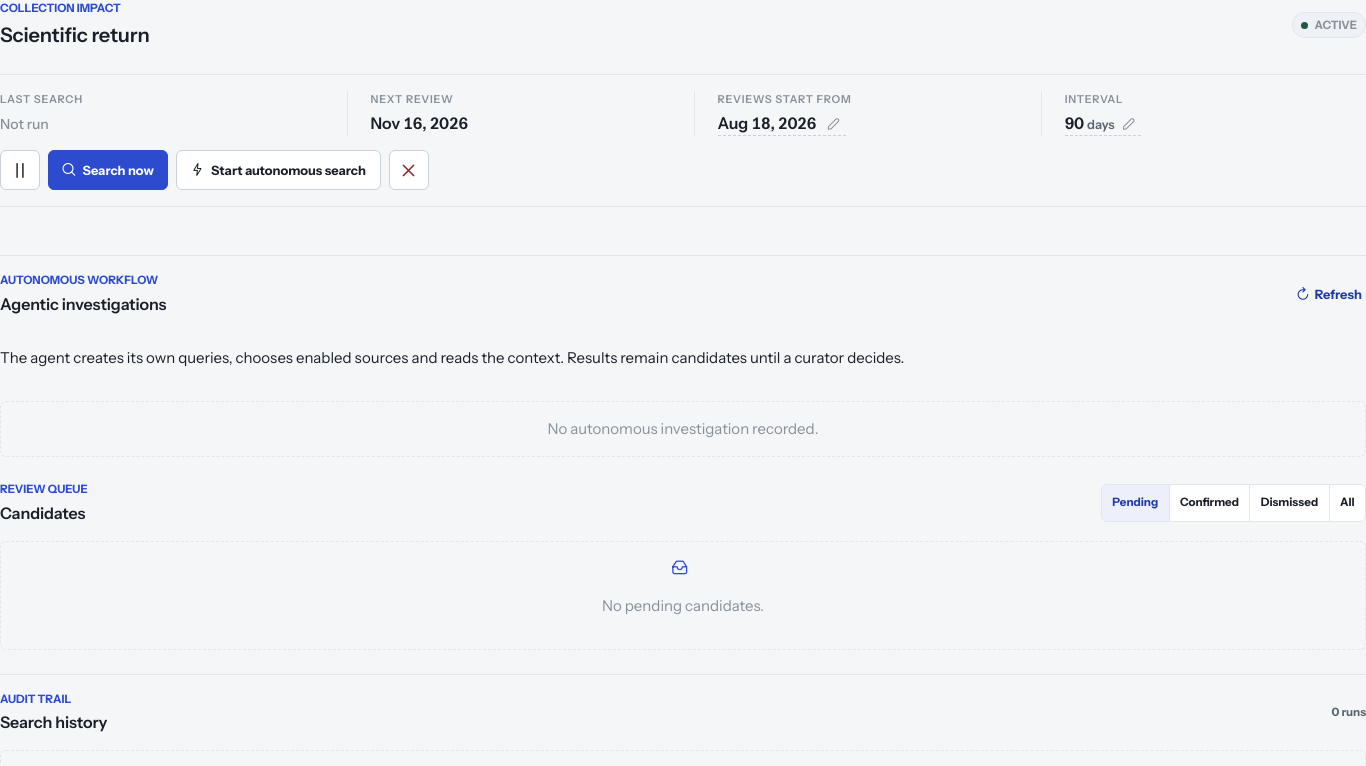
ScientificReturnPanelComponent › closes the watch only after the confirmation is accepted
What coordinates should you click on to do the following:
click the button named "Close monitoring"
I would click on:
 (408, 170)
Its box is [388,150,428,190].
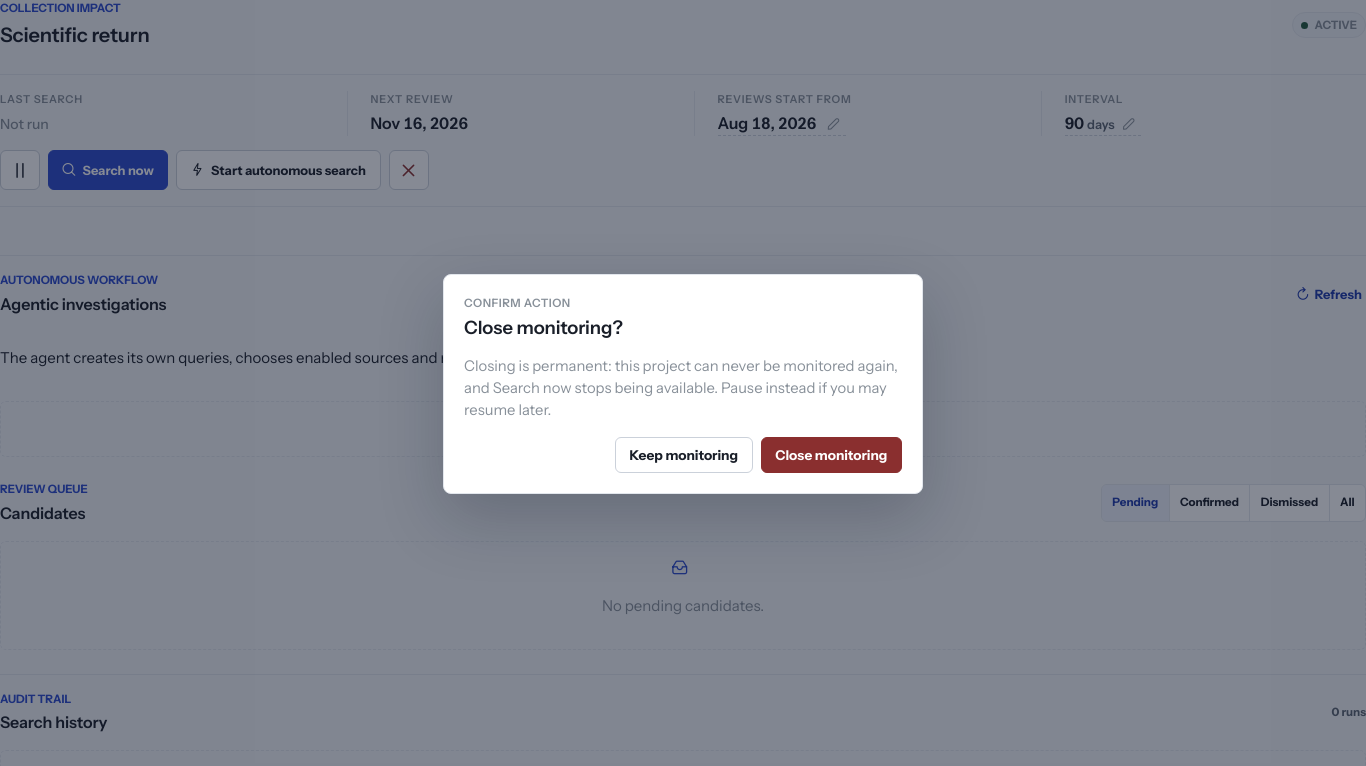
What coordinates should you click on to do the following:
click the button "Close monitoring"
I would click on:
 (831, 455)
Its box is [761,437,902,473].
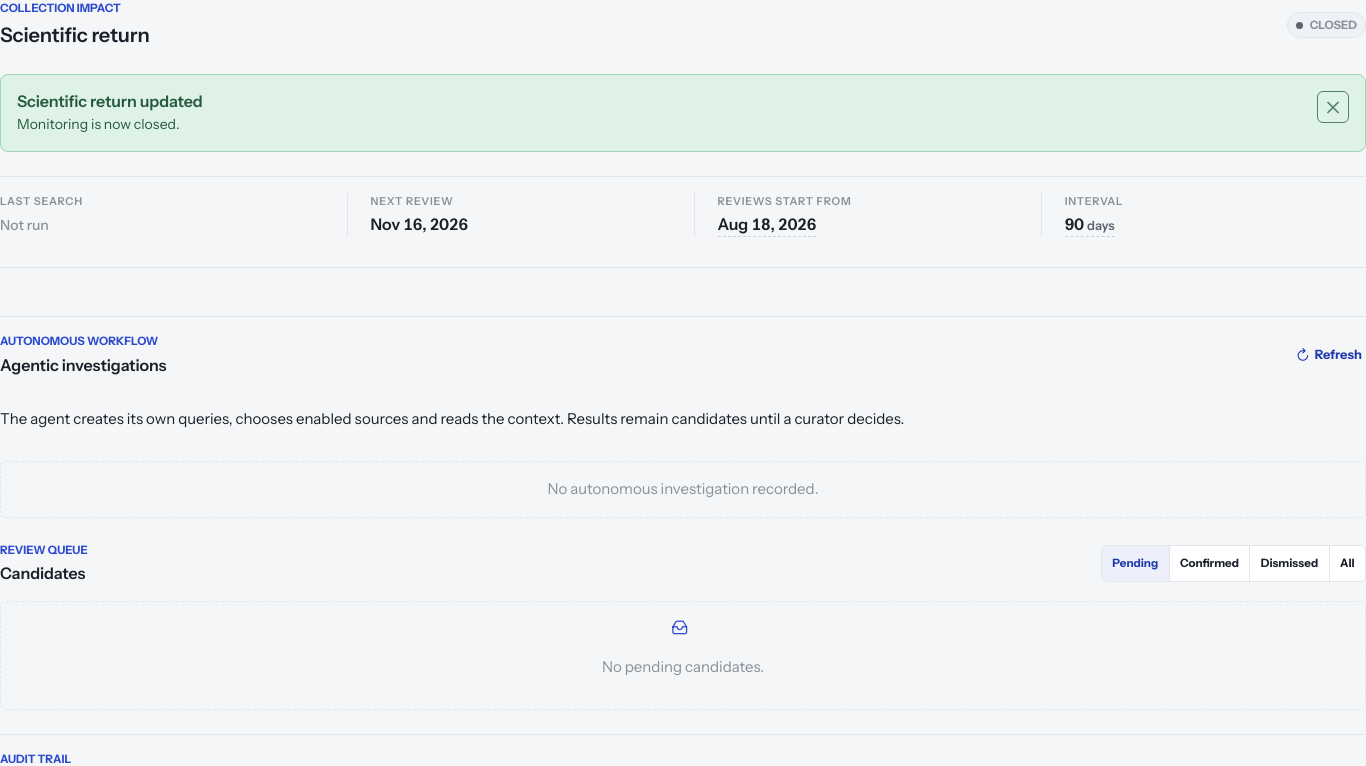
Now the dialog is gone
